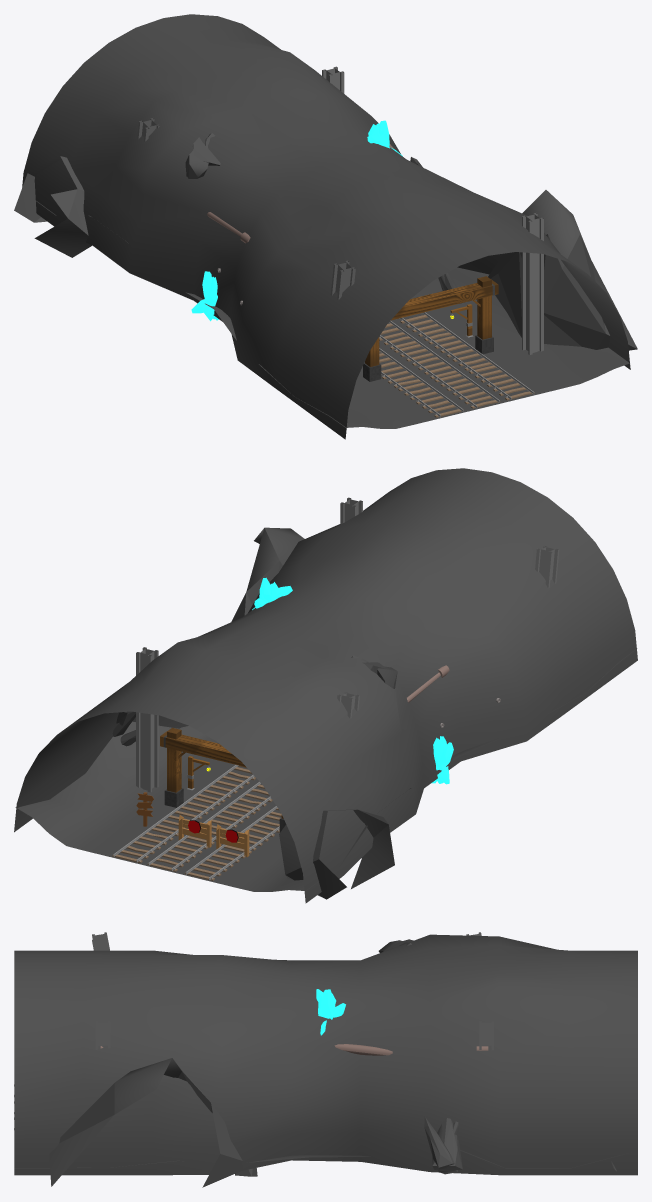
File: Modulo V2 Obstaculos 2.fbx
3 renders of one model, top to bottom at view 1: azimuth 30°, elevation 25°; view 2: azimuth 150°, elevation 25°; view 3: azimuth 270°, elevation 25°, orthographic. The views are drawn at different scales.
Visible parts, largest first — view 1: Cube.093; view 2: Cube.093; view 3: Cube.093.
Part boxes in pixels (bbox=[...]): Cube.093: bbox=[14, 14, 637, 439]; Cube.093: bbox=[14, 468, 637, 903]; Cube.093: bbox=[14, 932, 637, 1187].
Bounding box in the file's own units: 2957 × 1467 × 4762.
